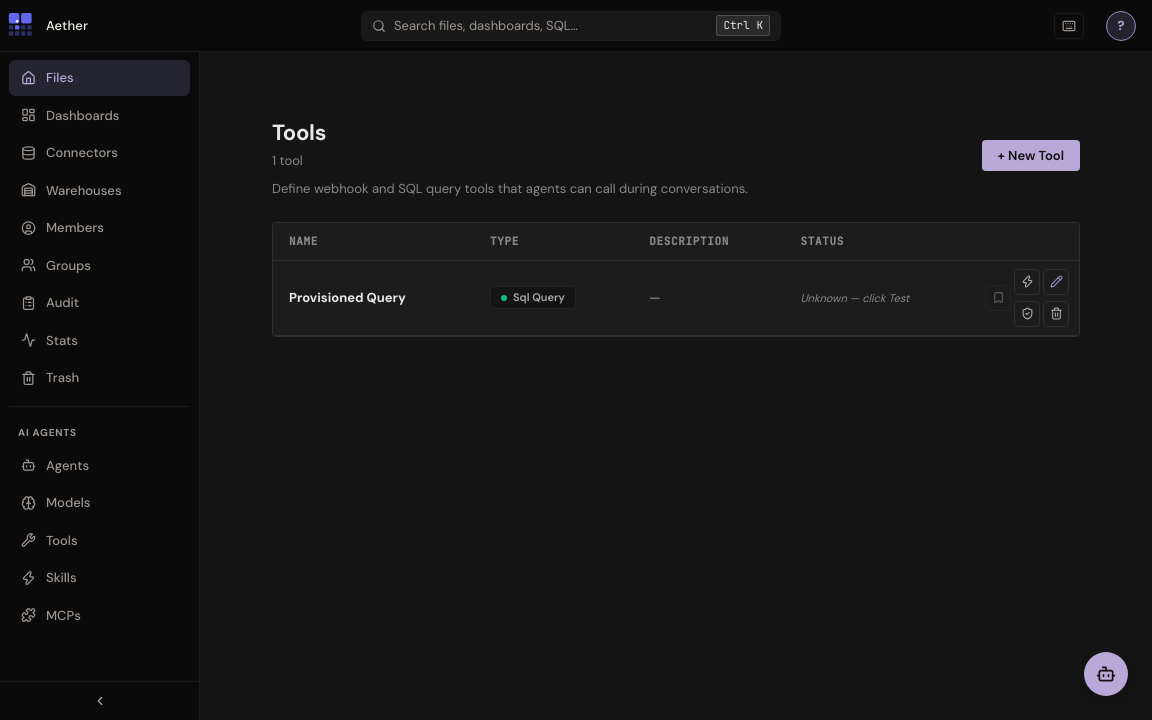
Test: ToolsPage › a tool configured with a blocked provisioner is not listed and shows the placeholder
Check: the text "Provisioned Query" is shown, box [289,289,406,306]
Click the button named "Edit tool". click: (1056, 282)
box: [1043,268,1069,294]
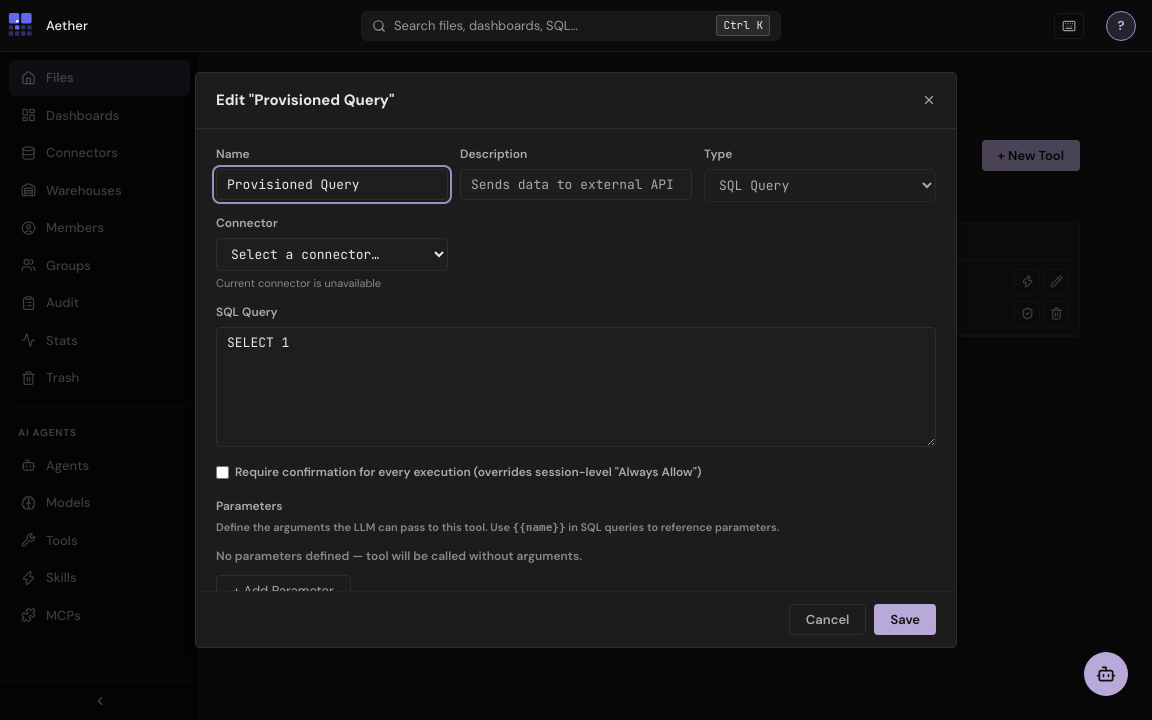
Check: the dropdown labelled "Connector" shows "Select a connector…", box [216,238,448,270]
Check: the text "Current connector is unavailable" is shown, box [216,276,381,290]
